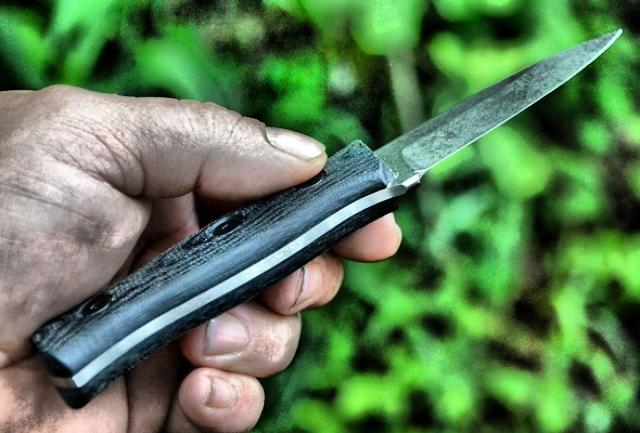knife: (21, 20, 626, 412)
